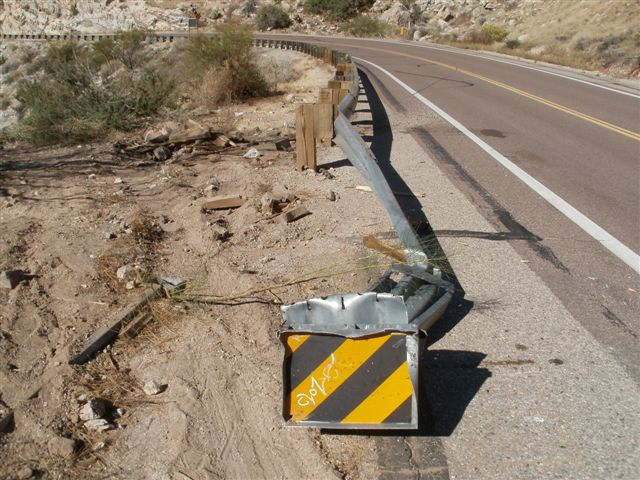damaged: (320, 112, 458, 330)
